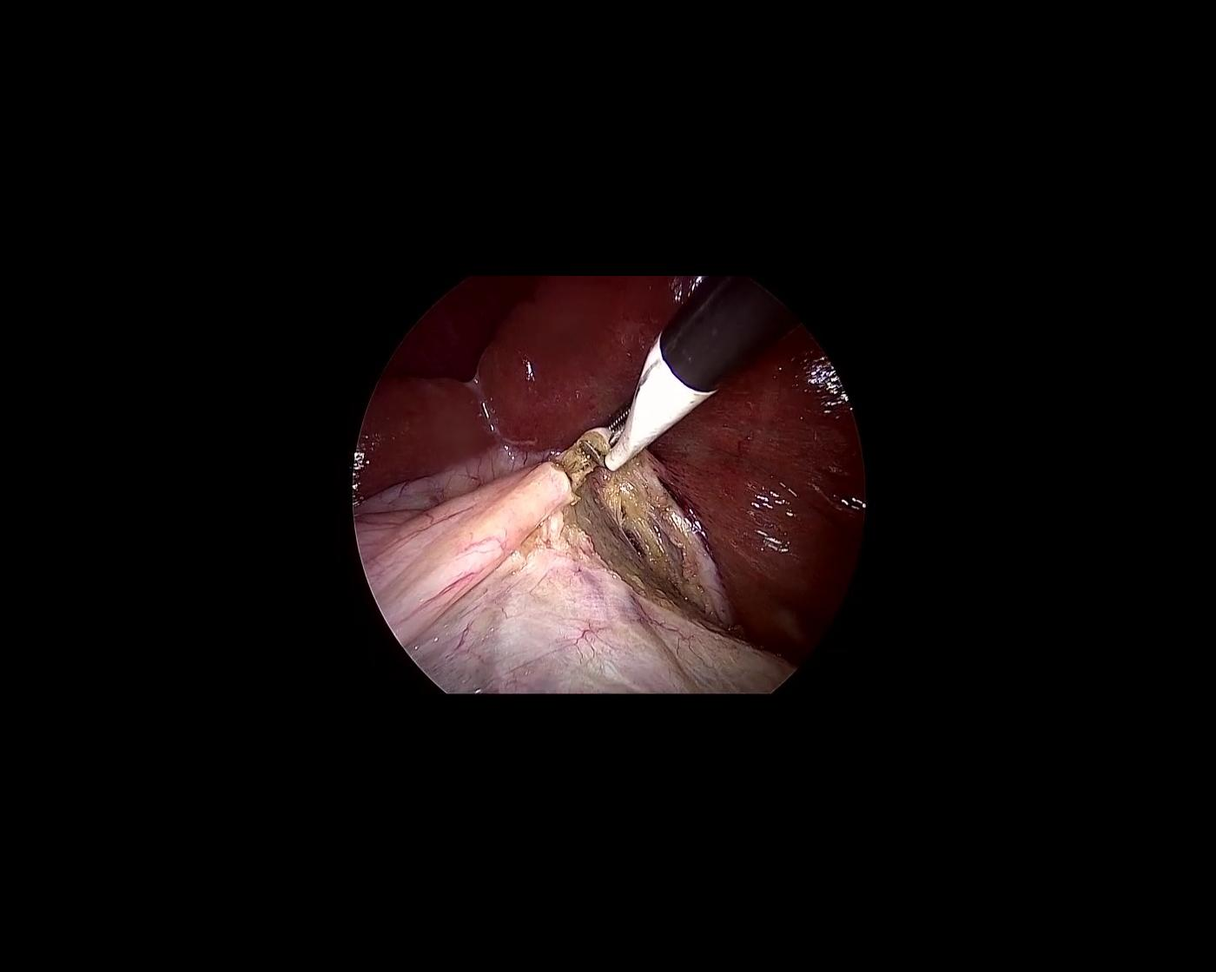Forceps: (552, 253, 795, 486)
Gallbladder: (340, 417, 682, 771)
Liver: (336, 191, 919, 665)
